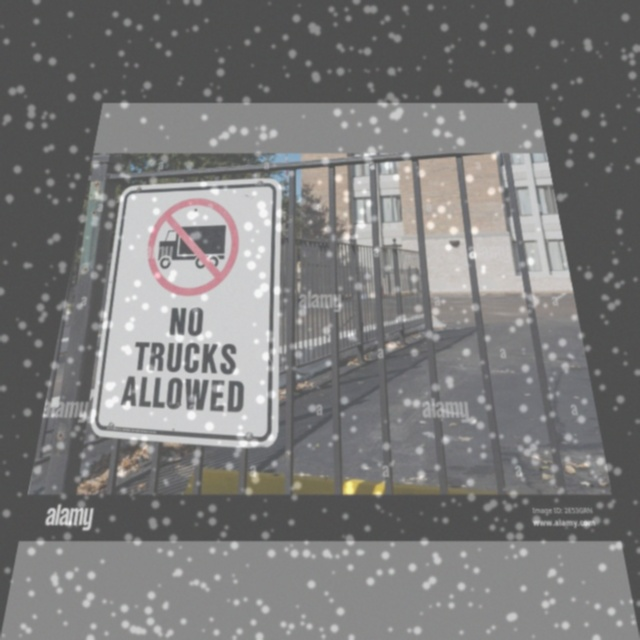Truck_Prohibited: (133, 191, 246, 304)
